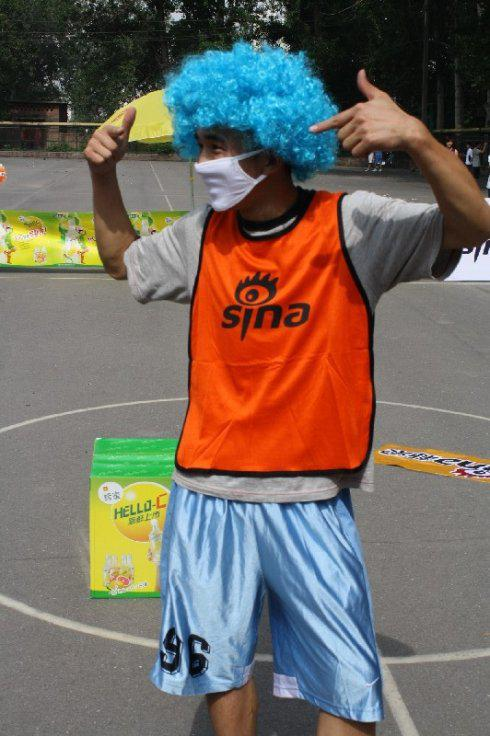OK: (189, 129, 272, 212)
